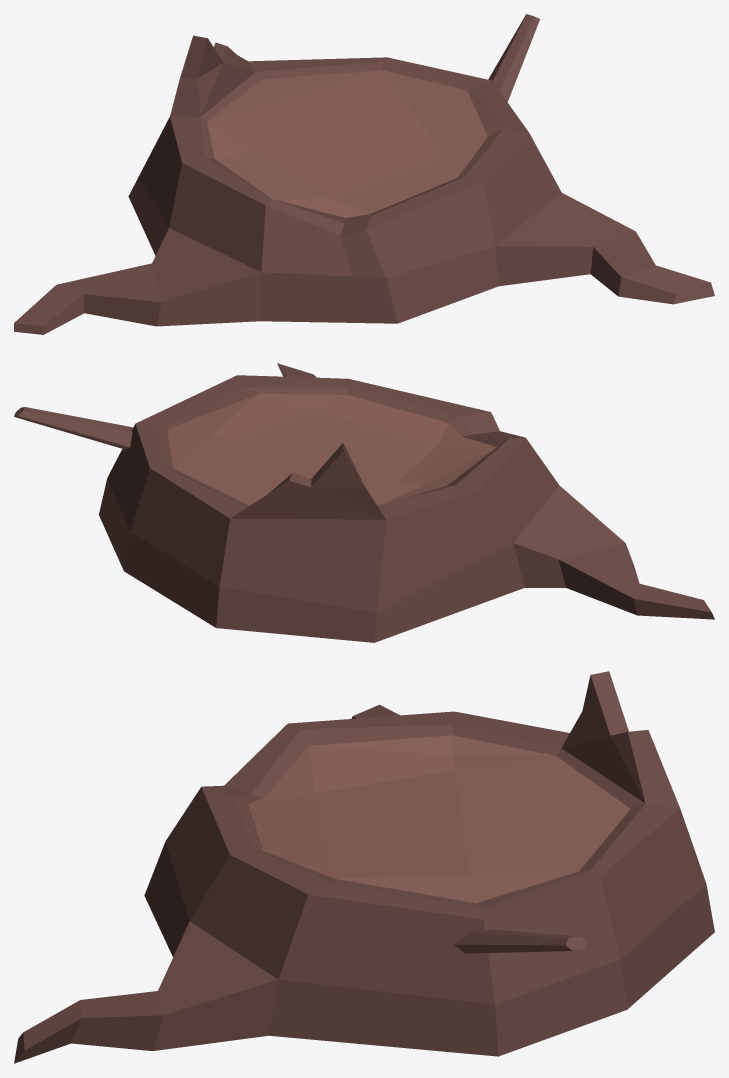
The model's file is Toco Arvore.fbx.
3 renders of one model, top to bottom at view 1: azimuth 30°, elevation 25°; view 2: azimuth 150°, elevation 25°; view 3: azimuth 270°, elevation 25°, orthographic. The views are drawn at different scales.
Visible parts, largest first — view 1: TreeStump; view 2: TreeStump; view 3: TreeStump.
Boxes of the visible parts, box(x1,y1,x2,y2) form: TreeStump: box(14, 14, 714, 334); TreeStump: box(14, 363, 714, 642); TreeStump: box(14, 671, 714, 1063).
Size of the model in its own units: 237 by 62.16 by 186.
